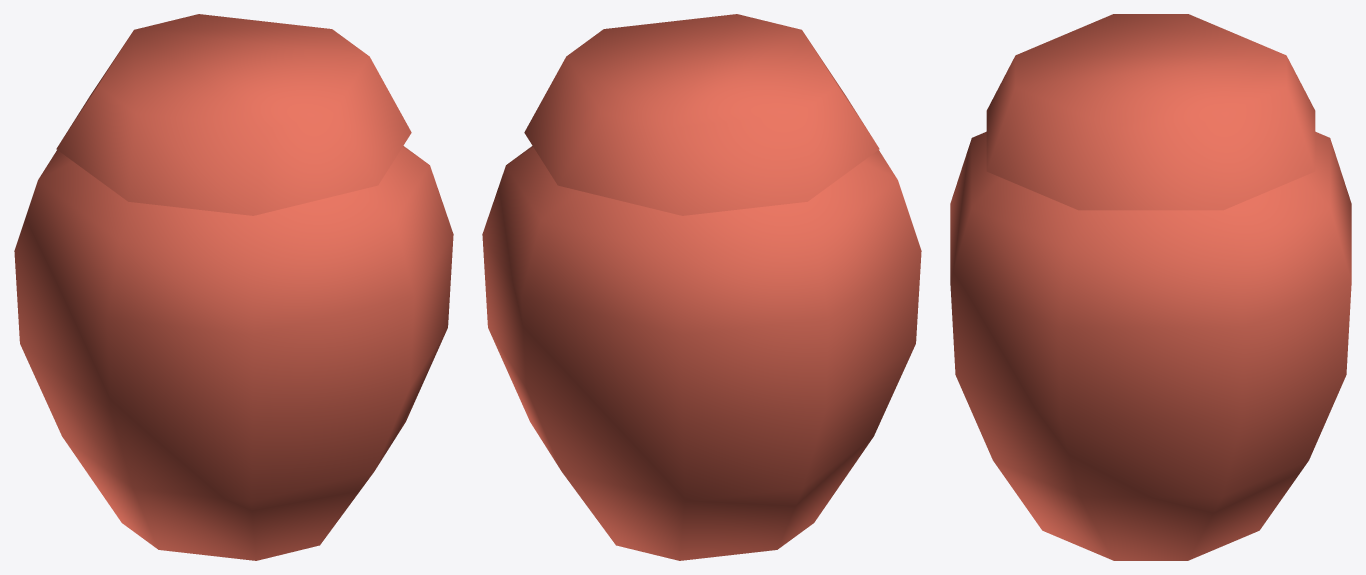
File: Onggi_Big.fbx
3 views of the same model, side by side, from view 1: azimuth 30°, elevation 25°; view 2: azimuth 150°, elevation 25°; view 3: azimuth 270°, elevation 25° (orthographic).
Parts seen in each view (by area): view 1: Onggi_big; view 2: Onggi_big; view 3: Onggi_big.
Boxes of the visible parts, x1,y1,x2,y2 form: Onggi_big: (14, 14, 453, 560); Onggi_big: (482, 14, 921, 560); Onggi_big: (950, 14, 1351, 560).
Size of the model in its own units: 59.5 by 72.6 by 59.5.
